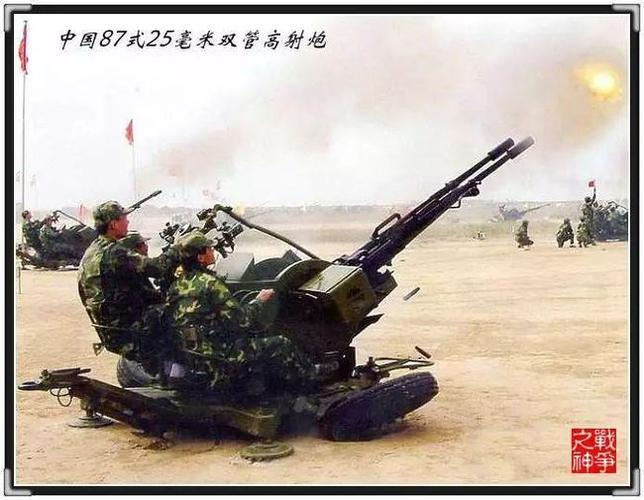MIL_SPG: (19, 141, 523, 441)
